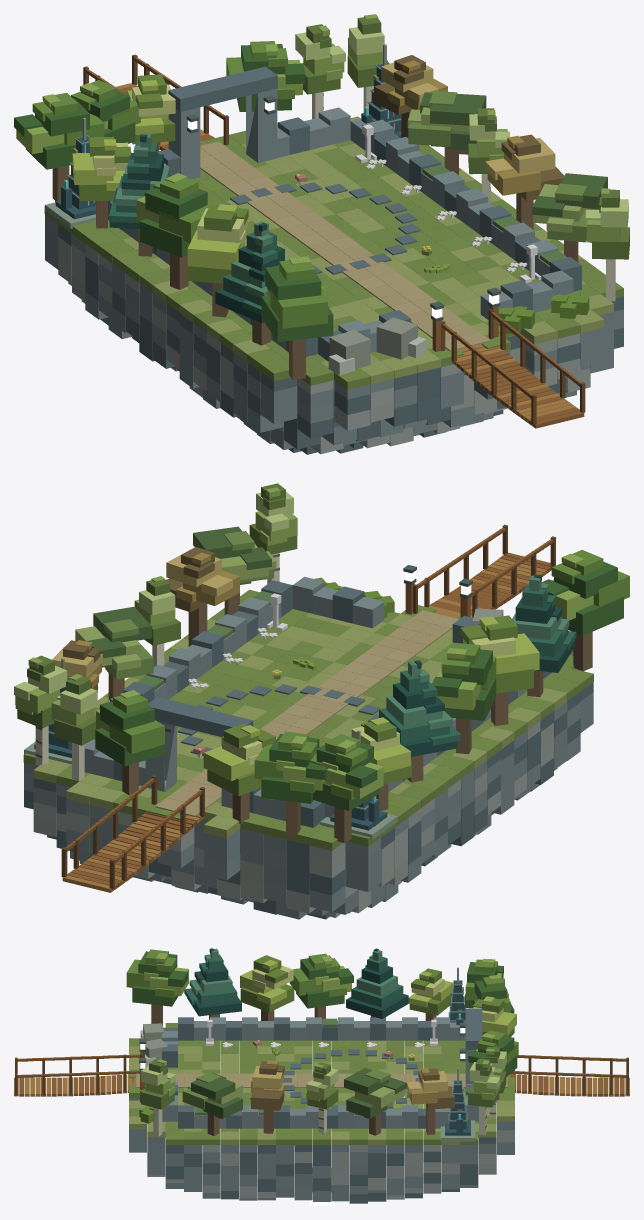
Rendered from room_boss_purified.glb.
The picture shows the model from 3 angles, top to bottom: view 1: azimuth 30°, elevation 25°; view 2: azimuth 150°, elevation 25°; view 3: azimuth 270°, elevation 25°; orthographic projection. The views are drawn at different scales.
Parts seen in each view (by area): view 1: room_boss_blocks, tree0_(0, 0).001, tree0_(0, 0).002, tree0_(0, 0).003, tree4_(0, 0).001, tree2_(0, 0).001, tree5_(0, 0).001, tree3_(0, 0).002, tree3_(0, 0).001, tree4_(0, 0).002, tree2_(0, 0).002, tree1_(0, 0).001 (+13 smaller); view 2: room_boss_blocks, tree0_(0, 0).001, tree2_(0, 0).002, tree0_(0, 0).005, tree0_(0, 0).003, tree0_(0, 0).002, tree0_(0, 0).004, tree4_(0, 0).001, tree3_(0, 0).002, tree5_(0, 0).001, tree2_(0, 0).001, tree4_(0, 0).003 (+9 smaller); view 3: room_boss_blocks, tree0_(0, 0).001, tree0_(0, 0).002, tree2_(0, 0).002, tree4_(0, 0).001, tree2_(0, 0).001, tree3_(0, 0).002, tree3_(0, 0).001, tree5_(0, 0).001, tree5_(0, 0).002, tree1_(0, 0).001, tree4_(0, 0).002 (+10 smaller).
Part boxes in pixels (<box>): room_boss_blocks: <box>44,54,623,454</box>; tree0_(0, 0).001: <box>261,256,333,379</box>; tree0_(0, 0).002: <box>136,173,210,289</box>; tree0_(0, 0).003: <box>14,93,104,200</box>; tree4_(0, 0).001: <box>187,204,248,317</box>; tree2_(0, 0).001: <box>215,221,285,345</box>; tree5_(0, 0).001: <box>485,134,564,229</box>; tree3_(0, 0).002: <box>407,91,486,174</box>; tree3_(0, 0).001: <box>532,173,607,262</box>; tree4_(0, 0).002: <box>72,136,131,228</box>; tree2_(0, 0).002: <box>109,133,169,256</box>; tree1_(0, 0).001: <box>585,188,629,301</box>; room_boss_blocks: <box>23,524,593,919</box>; tree0_(0, 0).001: <box>541,550,629,671</box>; tree2_(0, 0).002: <box>379,660,460,782</box>; tree0_(0, 0).005: <box>95,690,165,795</box>; tree0_(0, 0).003: <box>310,734,383,842</box>; tree0_(0, 0).002: <box>432,642,496,754</box>; tree0_(0, 0).004: <box>254,731,326,836</box>; tree4_(0, 0).001: <box>460,615,539,725</box>; tree3_(0, 0).002: <box>75,606,153,699</box>; tree5_(0, 0).001: <box>166,547,239,646</box>; tree2_(0, 0).001: <box>512,574,576,697</box>; tree4_(0, 0).003: <box>203,724,275,823</box>; room_boss_blocks: <box>14,1008,629,1205</box>; tree0_(0, 0).001: <box>126,949,188,1026</box>; tree0_(0, 0).002: <box>289,953,353,1020</box>; tree2_(0, 0).002: <box>346,948,408,1018</box>; tree4_(0, 0).001: <box>240,955,294,1020</box>; tree2_(0, 0).001: <box>184,948,241,1019</box>; tree3_(0, 0).002: <box>344,1068,406,1135</box>; tree3_(0, 0).001: <box>182,1072,242,1135</box>; tree5_(0, 0).001: <box>251,1060,284,1133</box>; tree5_(0, 0).002: <box>406,1068,454,1134</box>; tree1_(0, 0).001: <box>140,1059,175,1136</box>; tree4_(0, 0).002: <box>408,968,453,1020</box>.
Bounding box in the file's own units: 19.03 × 13.82 × 38.5.
